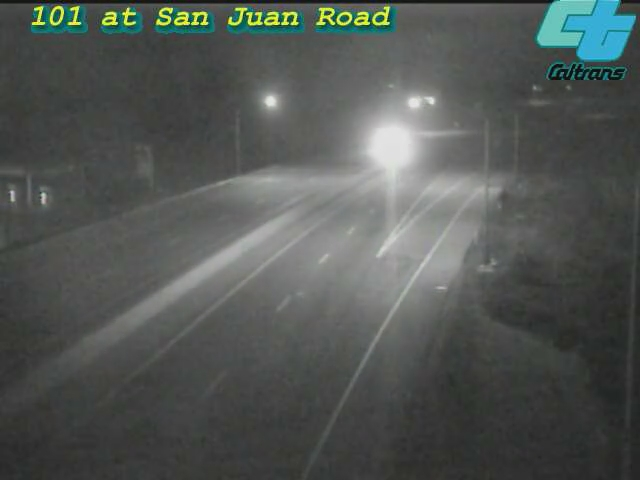vehicle: (364, 121, 414, 171)
